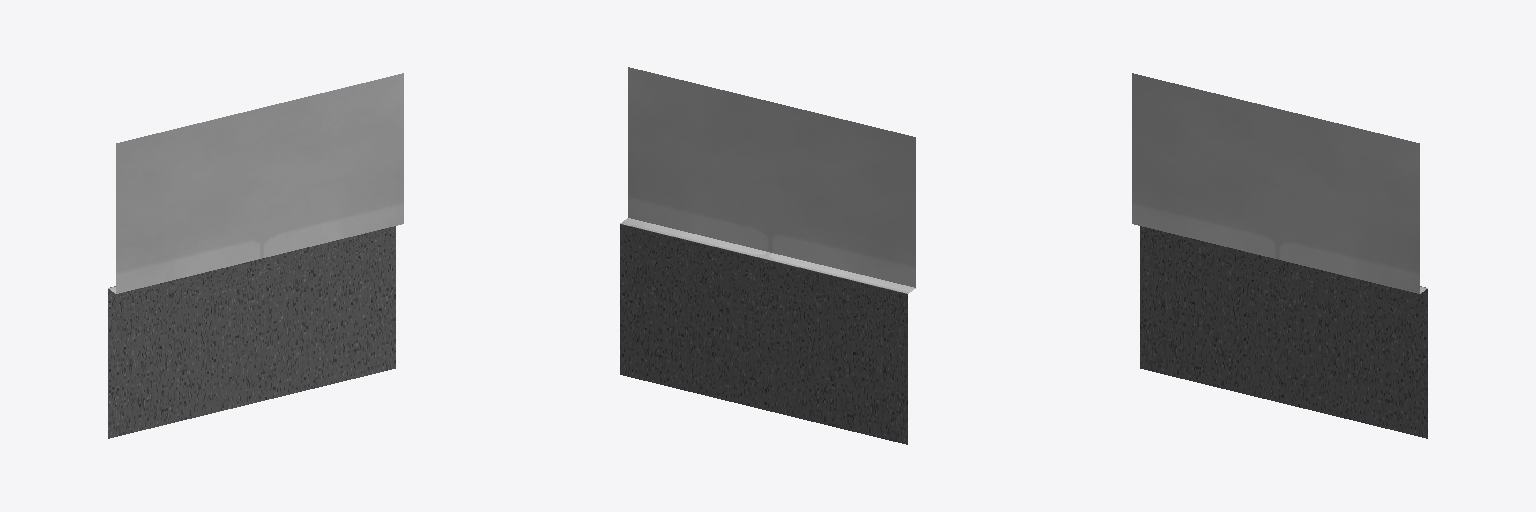
3 renders of one model, left to right at view 1: azimuth 30°, elevation 25°; view 2: azimuth 150°, elevation 25°; view 3: azimuth 330°, elevation 25°, orthographic.
Visible parts, largest first — view 1: Plane; view 2: Plane; view 3: Plane.
Boxes of the visible parts, <box> form: Plane: <box>108,73,403,438</box>; Plane: <box>620,67,915,444</box>; Plane: <box>1132,73,1427,438</box>.
Bounding box in the file's own units: 2 × 2 × 0.1.
Materials: 1 (1 with a texture image).